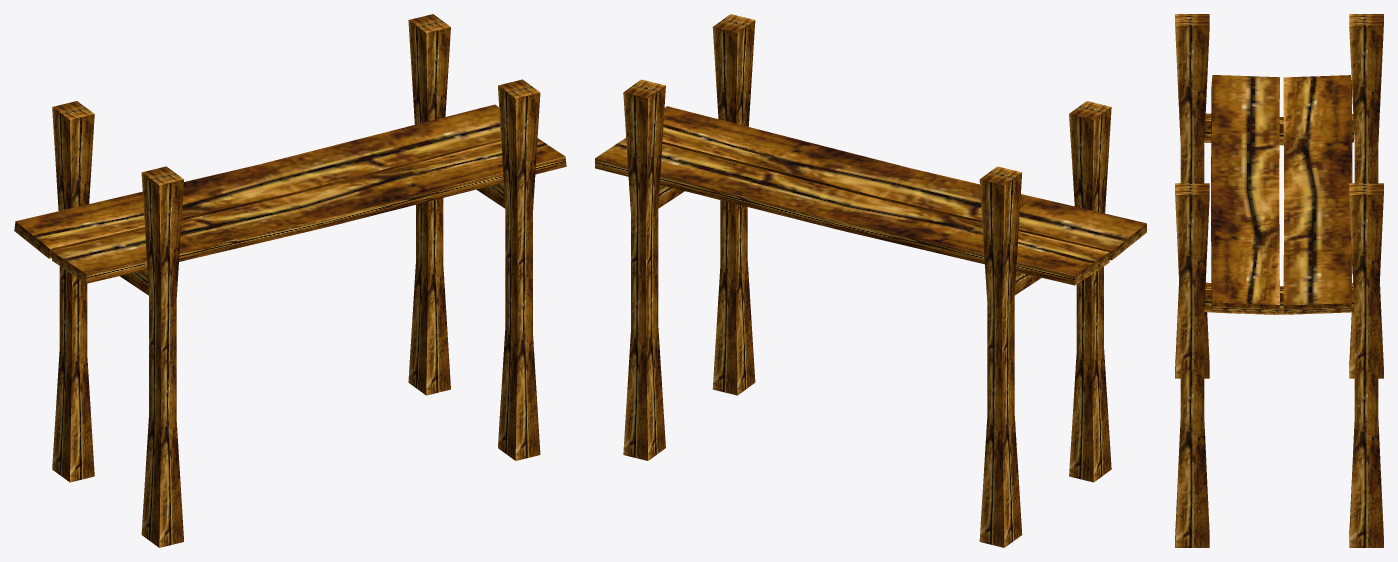
The model's file is MAINHALL_SCAFOLDING.fbx.
3 views of the same model, side by side, from view 1: azimuth 30°, elevation 25°; view 2: azimuth 150°, elevation 25°; view 3: azimuth 270°, elevation 25° (orthographic). The views are drawn at different scales.
Visible parts, largest first — view 1: MAINHALL_SCAFOLDING; view 2: MAINHALL_SCAFOLDING; view 3: MAINHALL_SCAFOLDING.
Part boxes in pixels (x1,y1,x2,y2): MAINHALL_SCAFOLDING: (14,14,566,547); MAINHALL_SCAFOLDING: (595,14,1146,547); MAINHALL_SCAFOLDING: (1175,14,1383,547).
Size of the model in its own units: 31578 by 22761 by 12199.
Materials: 1 (1 with a texture image).
